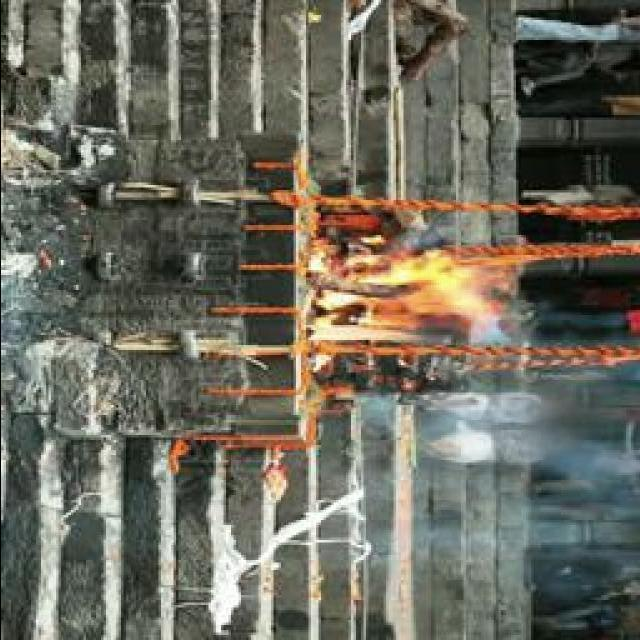Fire: (314, 252, 502, 348)
